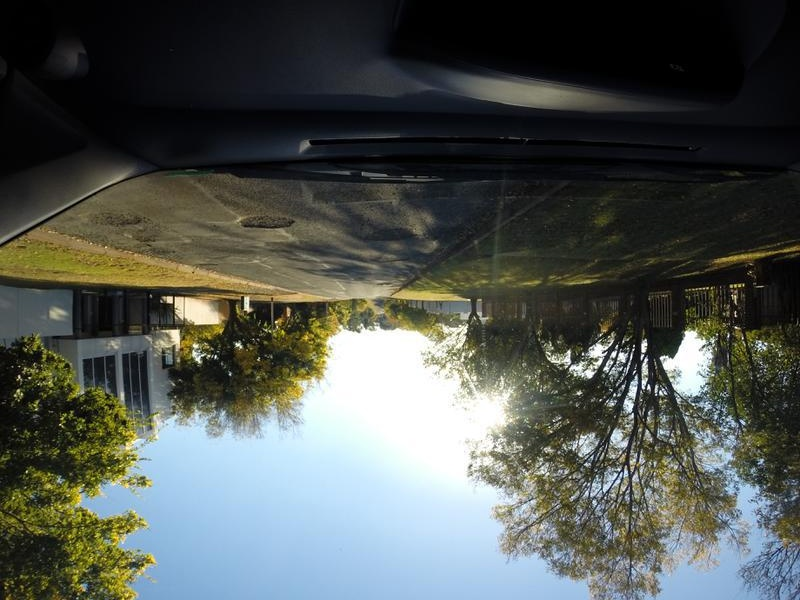pothole: (232, 201, 294, 238), (342, 222, 415, 245), (88, 205, 145, 228), (363, 247, 412, 270)
